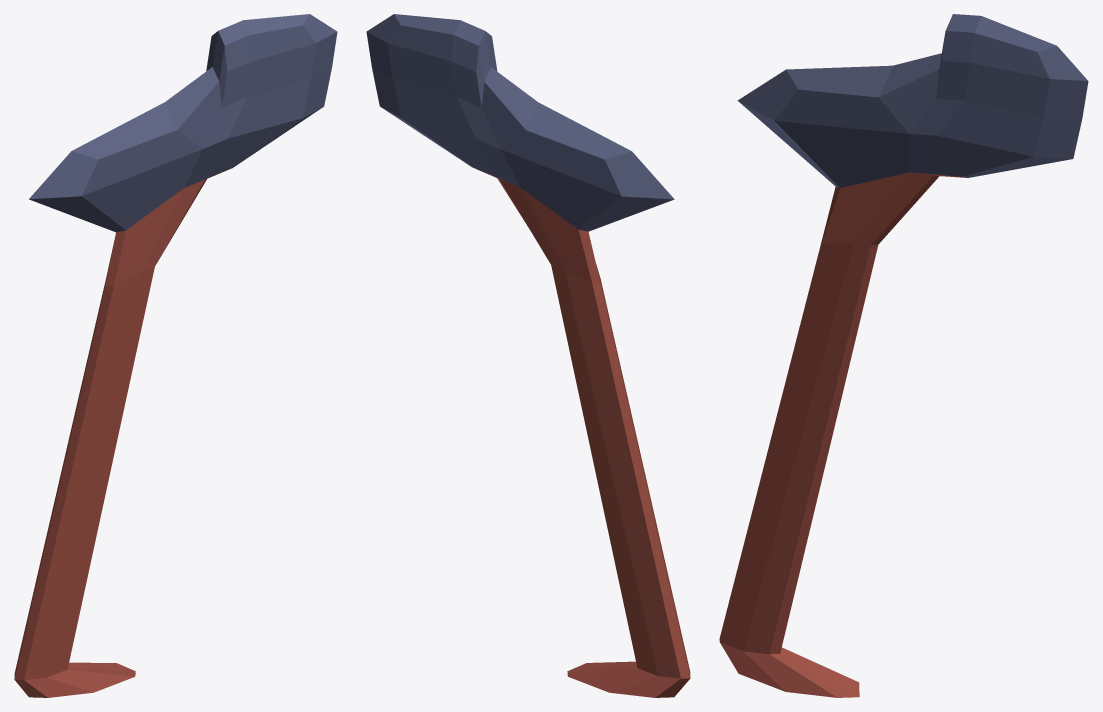
The model's file is AxeUpdated.fbx.
The picture shows the model from 3 angles, left to right: view 1: azimuth 30°, elevation 25°; view 2: azimuth 150°, elevation 25°; view 3: azimuth 330°, elevation 25°; orthographic projection. The views are drawn at different scales.
Visible parts, largest first — view 1: Cube; view 2: Cube; view 3: Cube.
Boxes of the visible parts, left/top/right/bottom form: Cube: left=14, top=14, right=337, bottom=697; Cube: left=366, top=14, right=690, bottom=697; Cube: left=719, top=14, right=1088, bottom=697.
Bounding box in the file's own units: 92.78 × 171 × 12.24.
